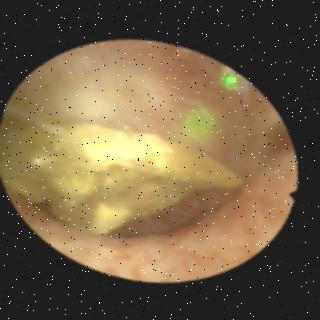laser: (185, 109, 214, 137), (223, 72, 236, 83)
stone: (1, 120, 241, 230)
tissue: (6, 44, 292, 273)
